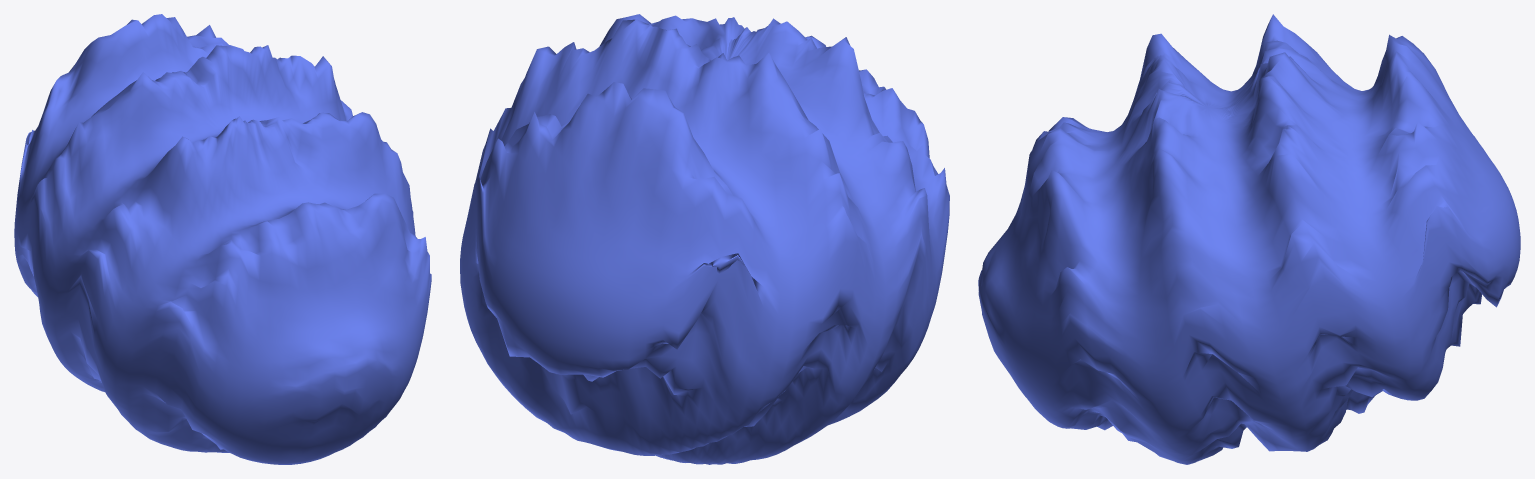
The model's file is blob.glb.
3 views of the same model, side by side, from view 1: azimuth 30°, elevation 25°; view 2: azimuth 150°, elevation 25°; view 3: azimuth 270°, elevation 25° (orthographic). The views are drawn at different scales.
Visible parts, largest first — view 1: Sphere; view 2: Sphere; view 3: Sphere.
Part boxes in pixels (bbox=[...]): Sphere: bbox=[14, 14, 431, 464]; Sphere: bbox=[460, 14, 949, 464]; Sphere: bbox=[978, 14, 1520, 464].
Size of the model in its own units: 0.9359 by 0.9905 by 1.23.
